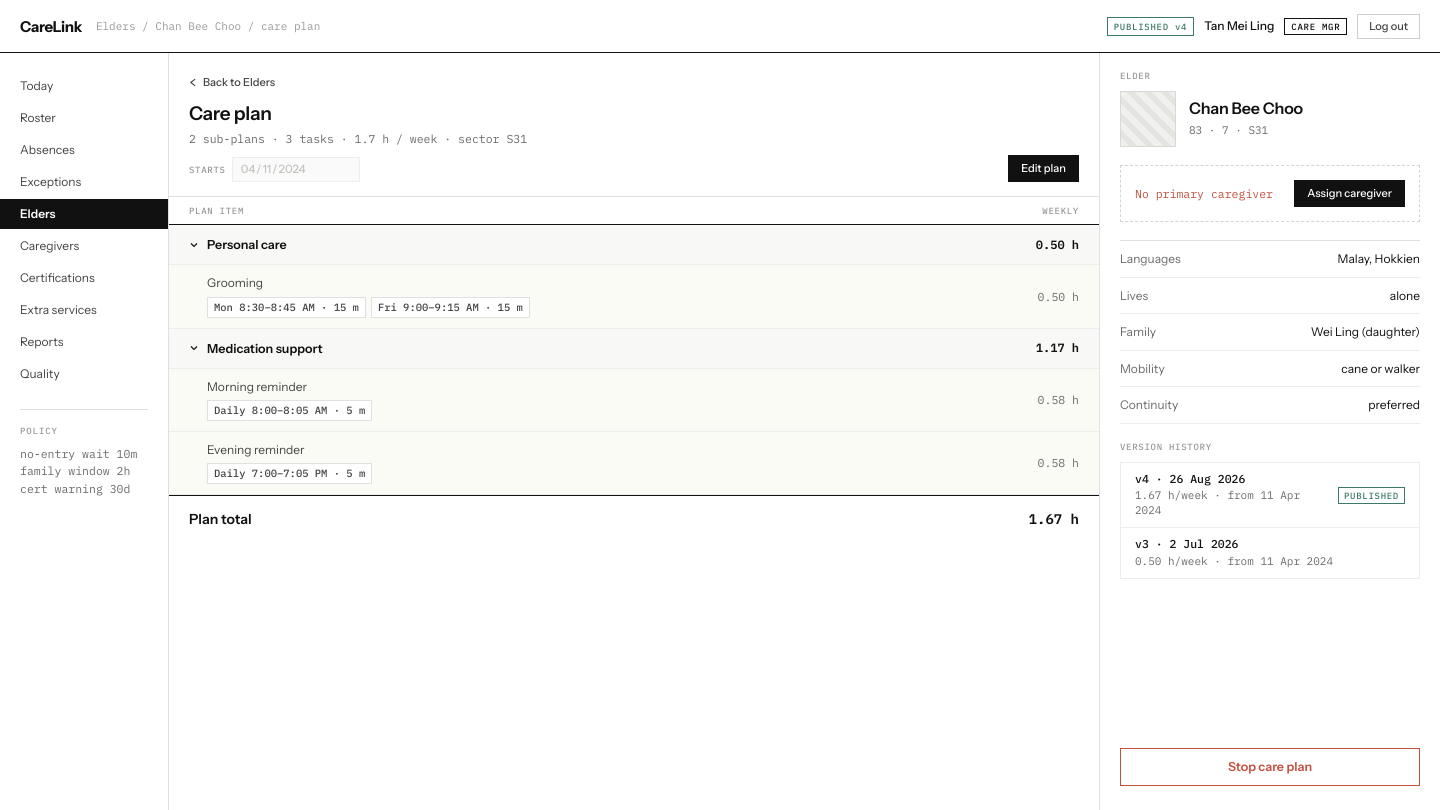
Scenario: asks before deleting a sub-plan, and Cancel keeps it
Click the button "Edit plan" at (1044, 169), box [1008, 155, 1079, 182]
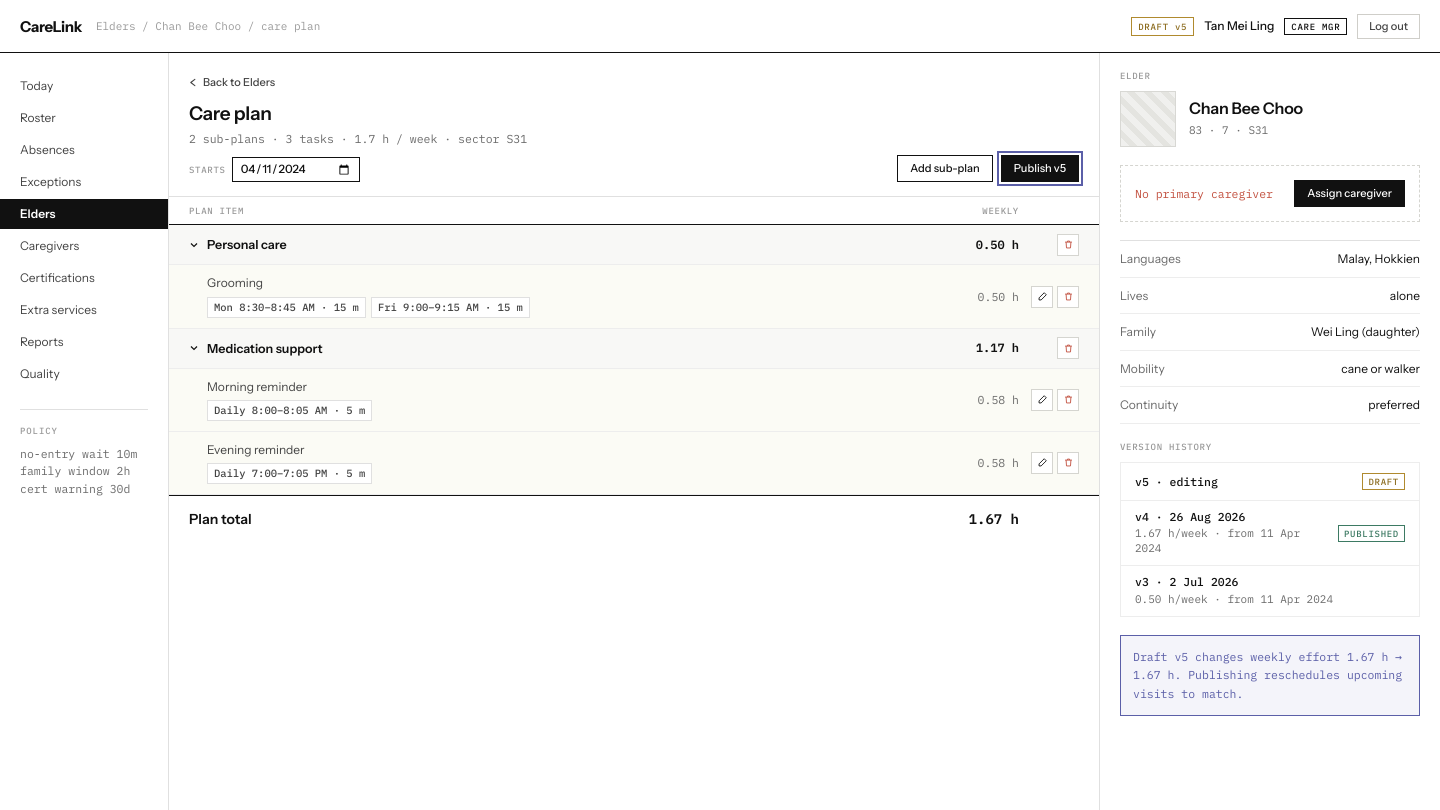
Click the button named "Delete sub-plan Medication support and its tasks" at (1068, 348), box [1057, 337, 1079, 359]
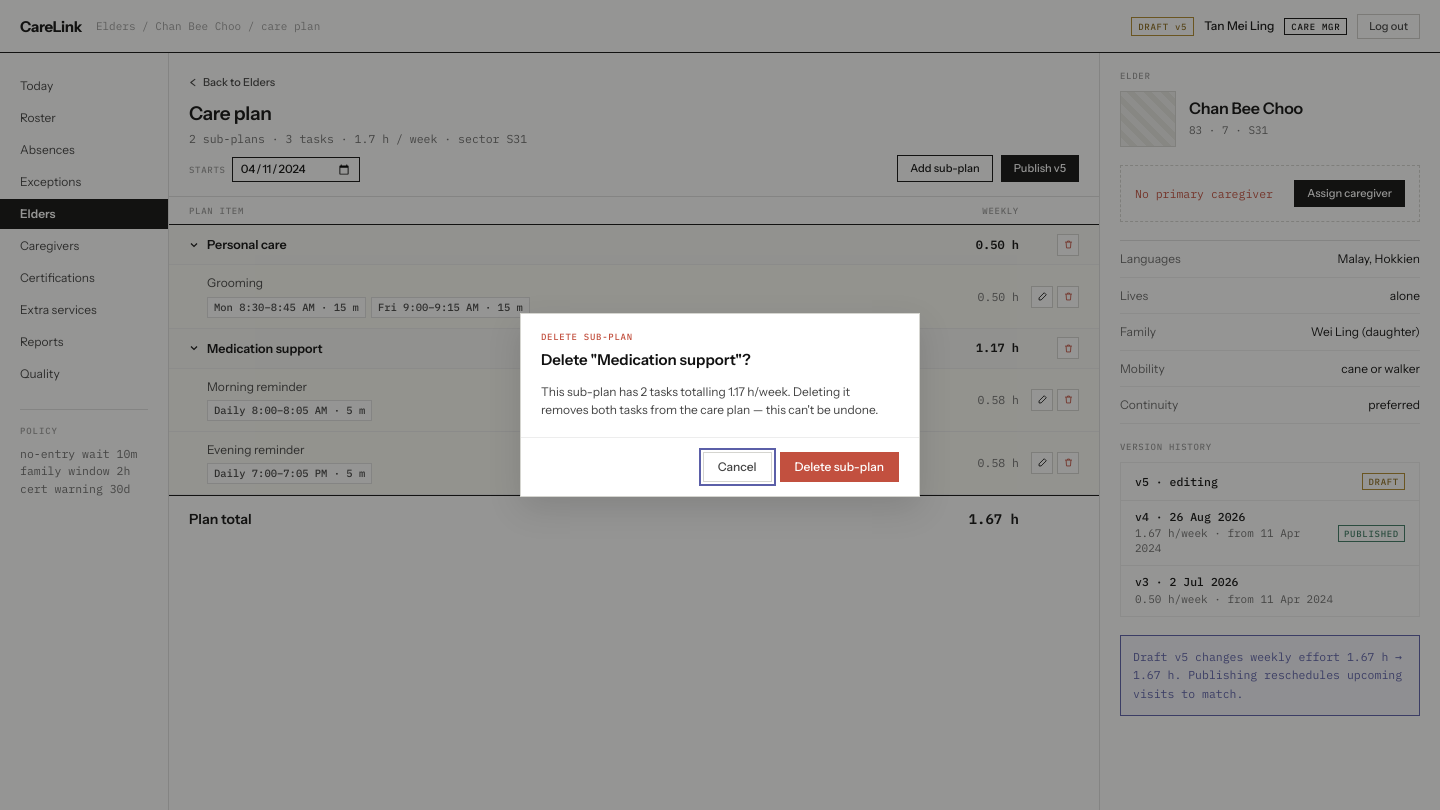
expect the dialog "Delete \"Medication support\"?" shows "This sub-plan has 2 tasks totalling 1.17 h/week. Deleting it removes both tasks": met, box [520, 313, 920, 497]
Click the button "Cancel" at (737, 467), box [703, 452, 772, 482]
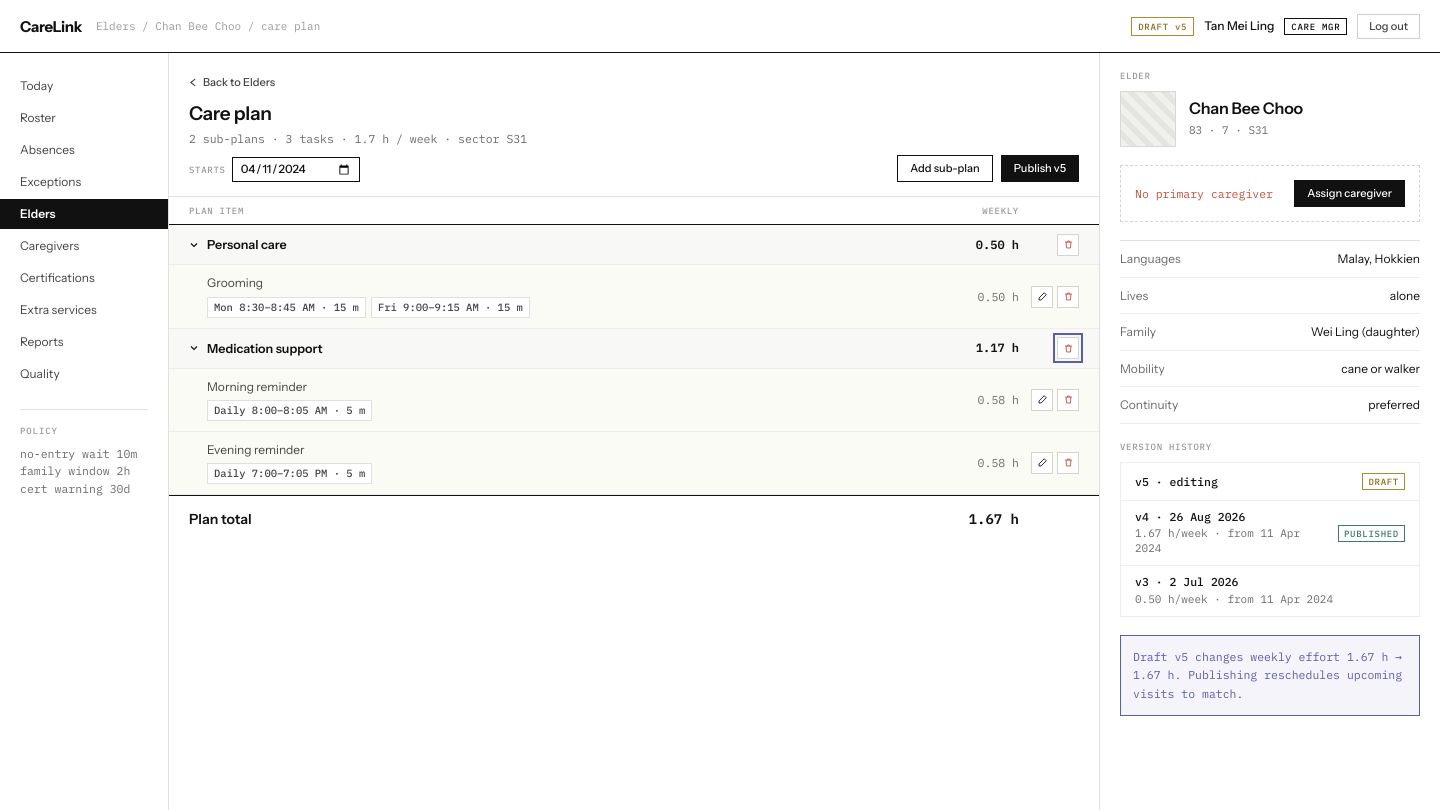
expect the button "Medication support" is shown: met, box [189, 329, 923, 368]
expect the dialog is gone: met
